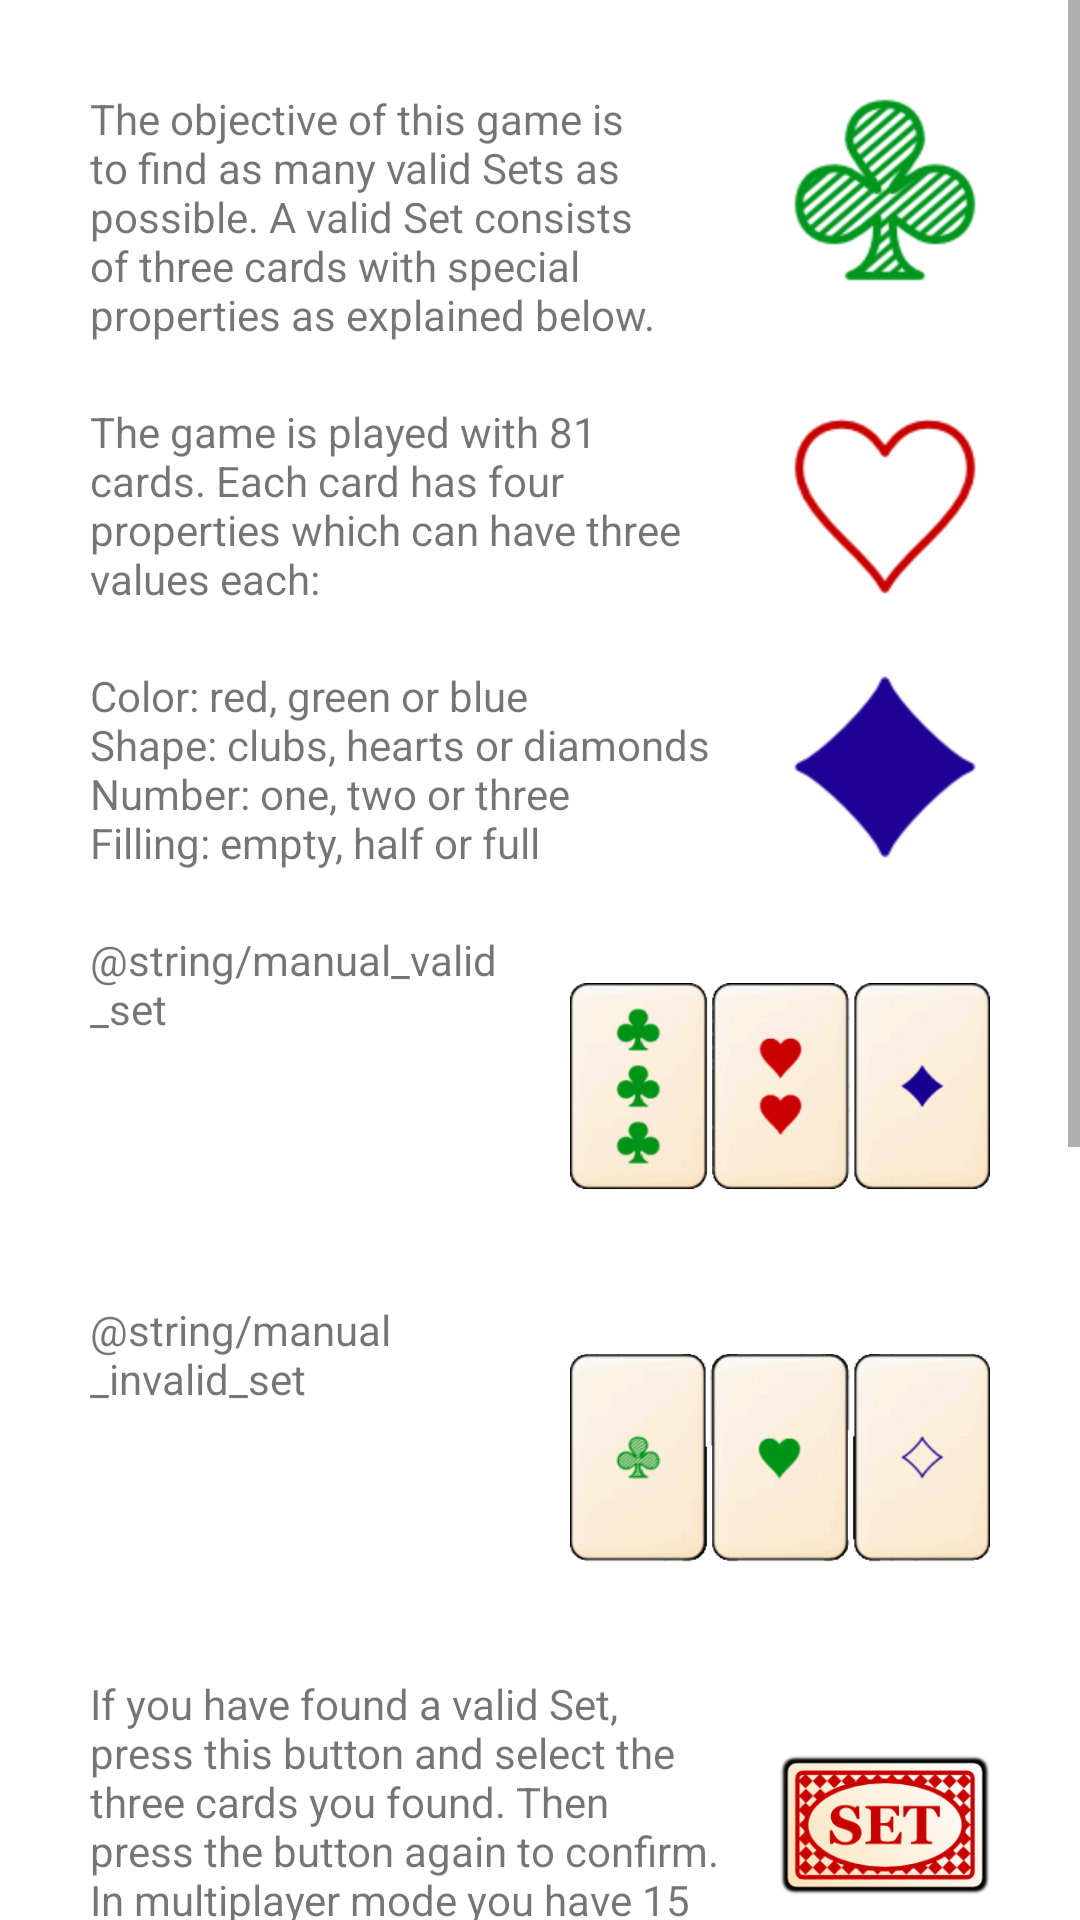

Screen size 1080×1920. Icon name, then its center in pixels as point (x, y):
clubs half: point (885, 190)
